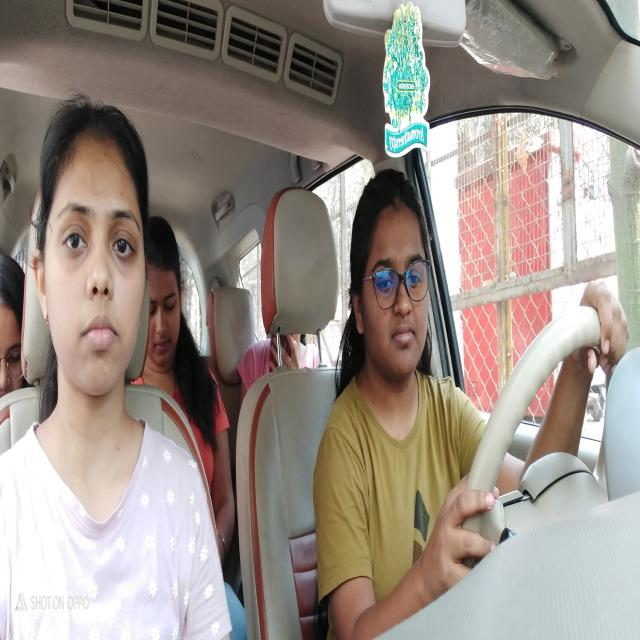person: (38, 112, 146, 390), (356, 187, 435, 369), (147, 243, 188, 370), (0, 290, 26, 401)
